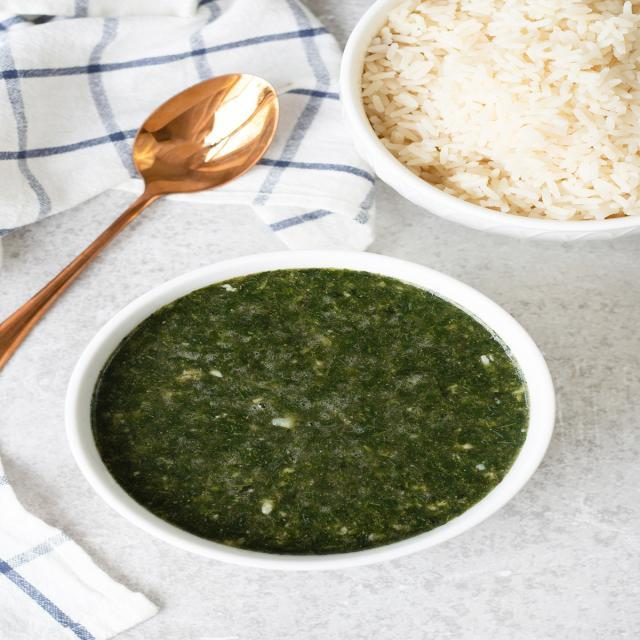molokhia: (81, 267, 532, 563)
